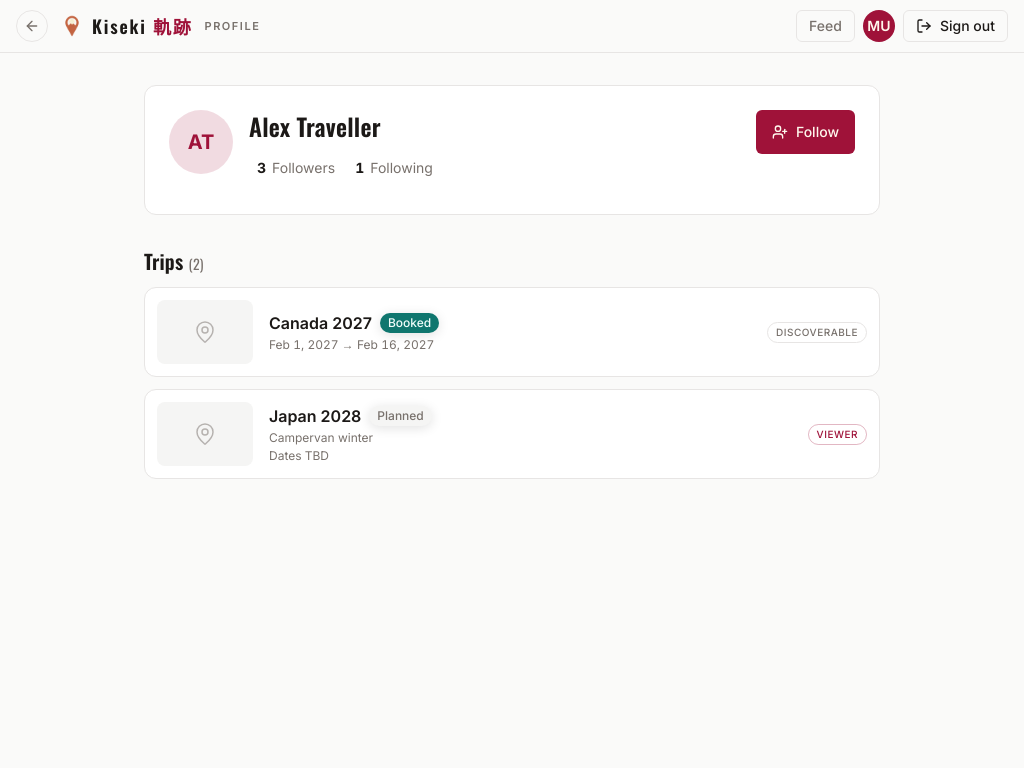
Test: ProfilePage — a peer's profile › never renders an email smuggled into the drill-in payload
Click the button "3 Followers" at (296, 168), box [249,146,343,190]
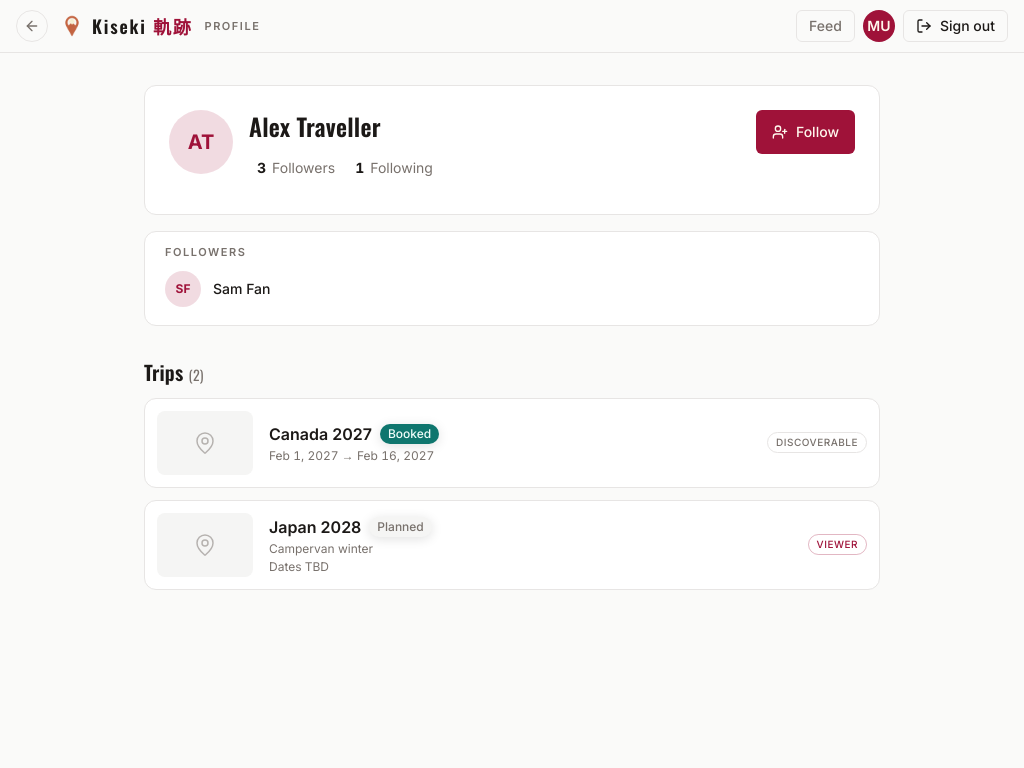
Expected: the text "Sam Fan" is shown, [213,280,270,296]
